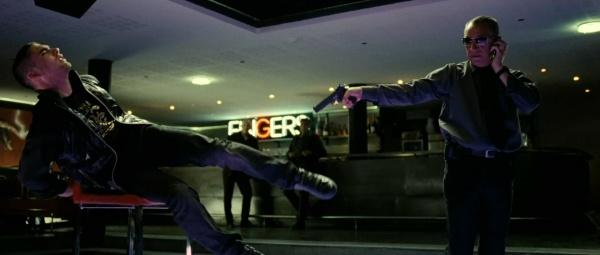Gun: (313, 83, 359, 115)
